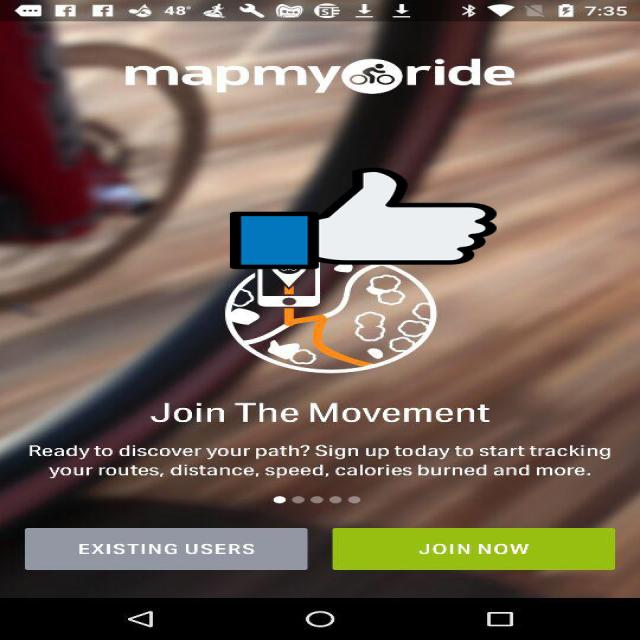privacy zuckering: (230, 166, 497, 272)
